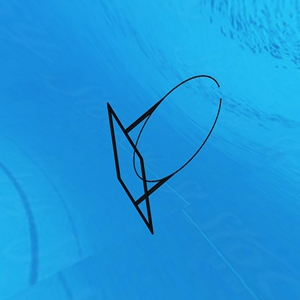circle: (106, 74, 223, 236)
